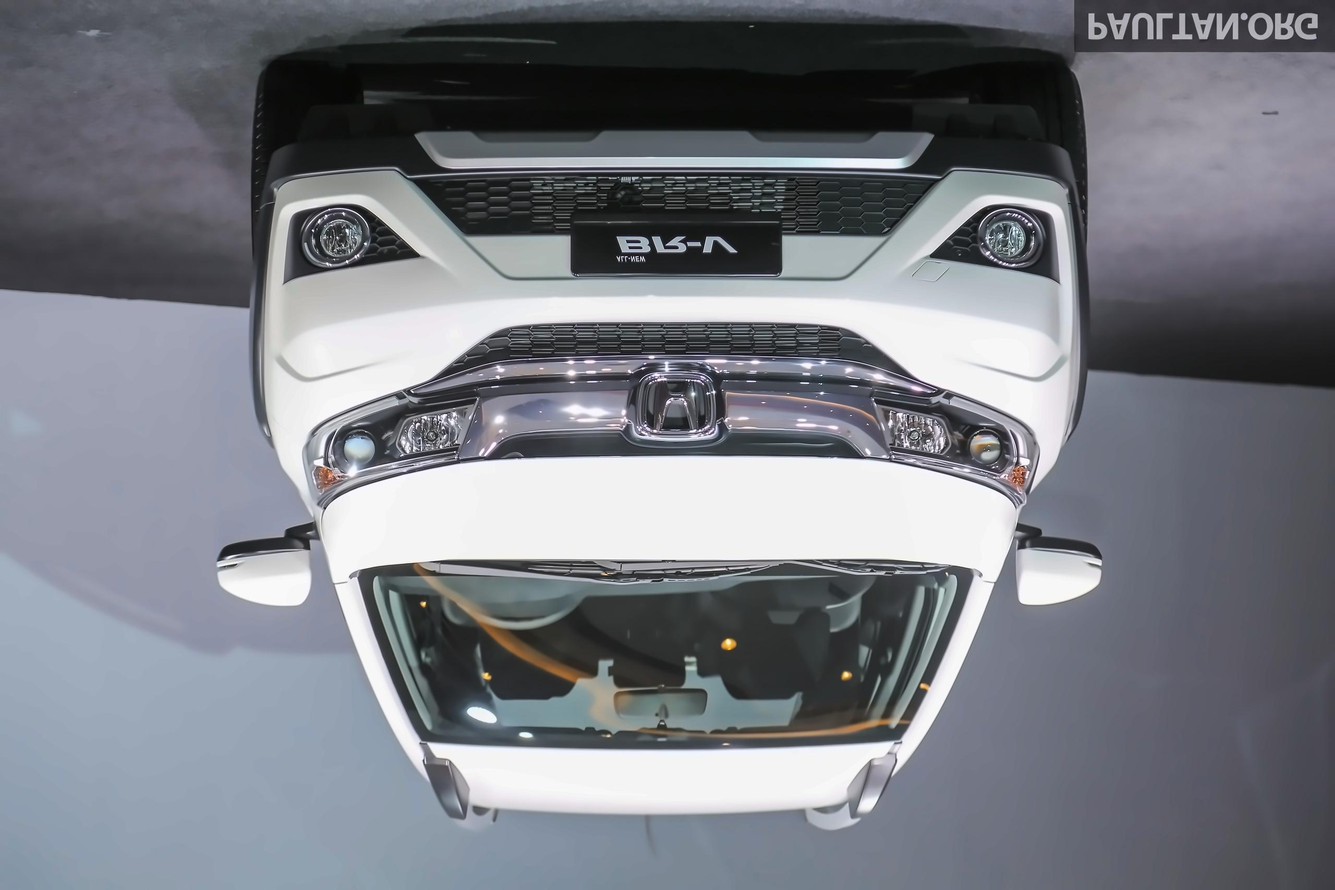Car hood: (308, 438, 1025, 582)
Front bumper: (252, 158, 1087, 413)
Headlight - -L-: (300, 387, 479, 508)
Headlight - -R-: (863, 383, 1024, 510)
Side mirror - -L-: (213, 533, 314, 613)
Side mirror - -R-: (1009, 531, 1104, 612)
